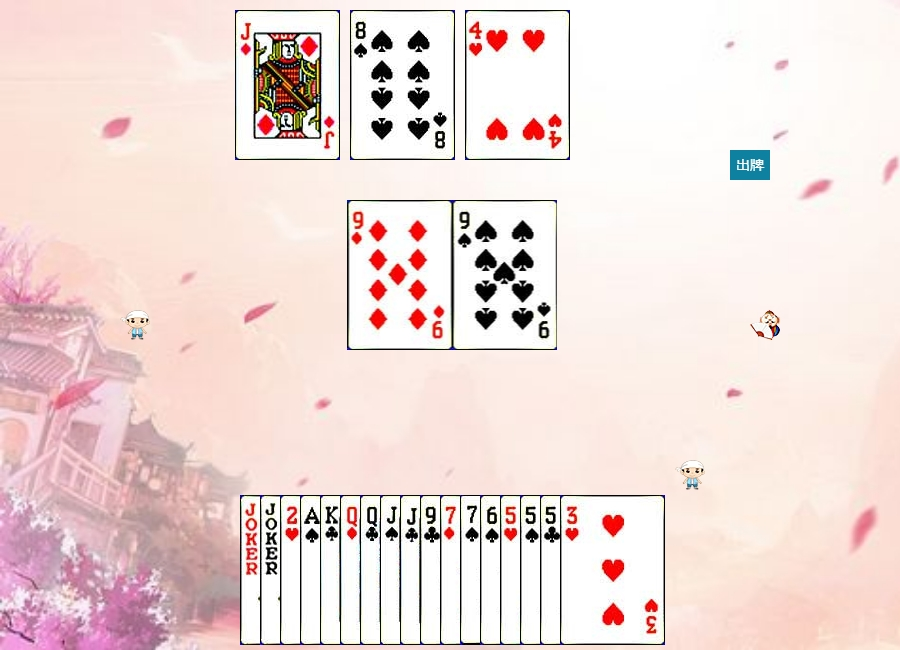11~1: (235, 10, 340, 160)
11~2: (400, 495, 505, 645)
11~4: (380, 495, 485, 645)
12~1: (340, 495, 445, 645)
12~2: (360, 495, 465, 645)
13~2: (320, 495, 425, 645)
14~4: (300, 495, 405, 645)
15~3: (280, 495, 385, 645)
17~3: (260, 495, 365, 645)
18~4: (240, 495, 345, 645)
3~3: (560, 495, 665, 645)
4~3: (465, 10, 570, 160)
5~2: (540, 495, 645, 645)
5~3: (500, 495, 605, 645)
5~4: (520, 495, 625, 645)
6~4: (480, 495, 585, 645)
7~1: (440, 495, 545, 645)
7~4: (460, 495, 565, 645)
8~4: (350, 10, 455, 160)
9~1: (348, 200, 453, 350)
9~2: (420, 495, 525, 645)
9~4: (453, 200, 558, 350)
